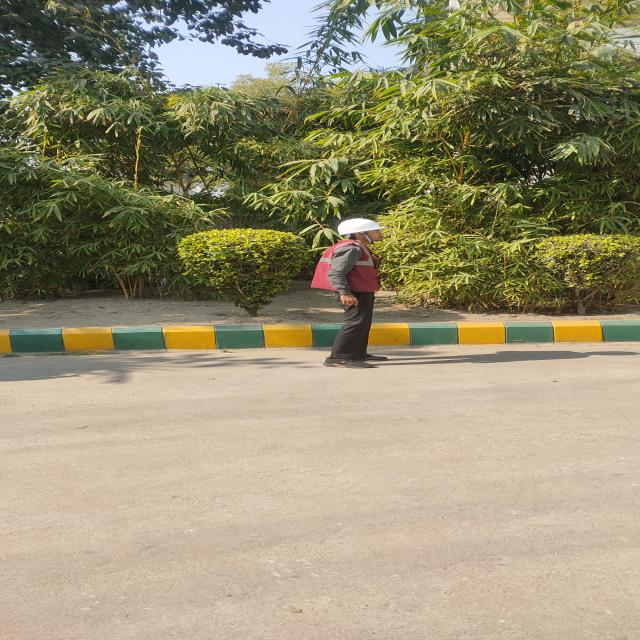safe: (312, 218, 388, 368)
